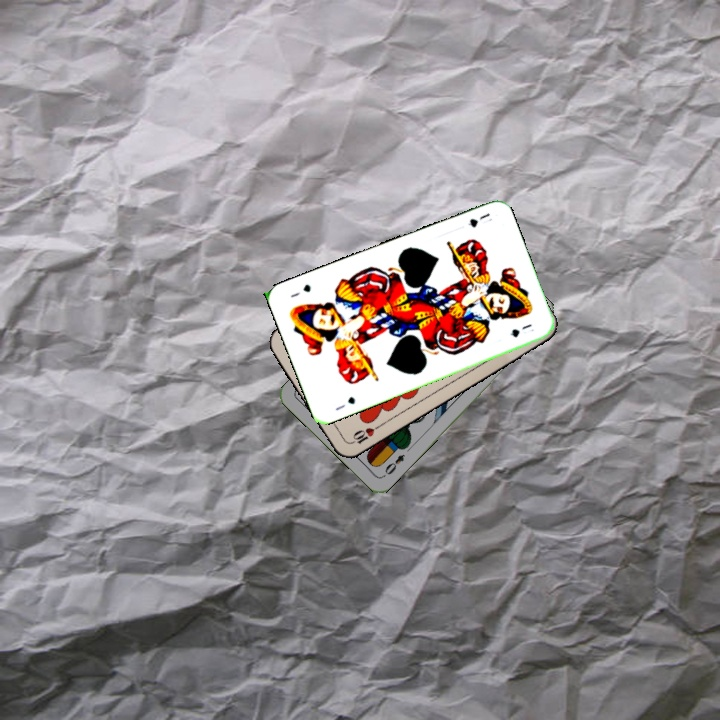EO: (379, 450, 407, 480)
GU: (464, 209, 492, 230), (331, 393, 358, 413)
H10: (345, 421, 383, 447)
